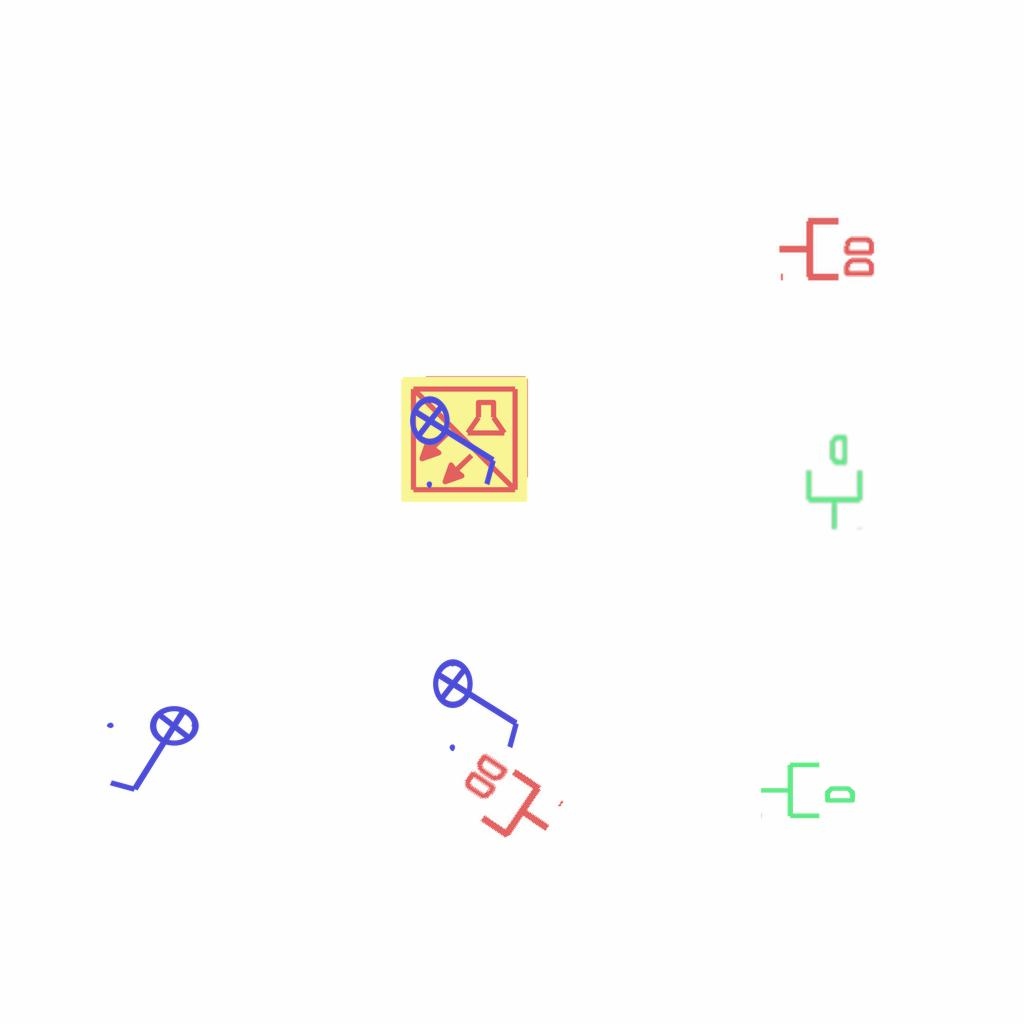Ausschalter_beleuchtet: (101, 704, 213, 800), (431, 645, 527, 757), (408, 382, 504, 494)
Datenanschluss_einfach: (758, 754, 858, 823), (798, 432, 867, 532)
Datenanschluss_zweifach: (444, 745, 569, 860), (776, 213, 879, 282)
OKW_Multisensormelder_(Kombination_optischer_Rauch-Kahlenmonoxid_Waerme-Melder): (398, 373, 530, 505)
